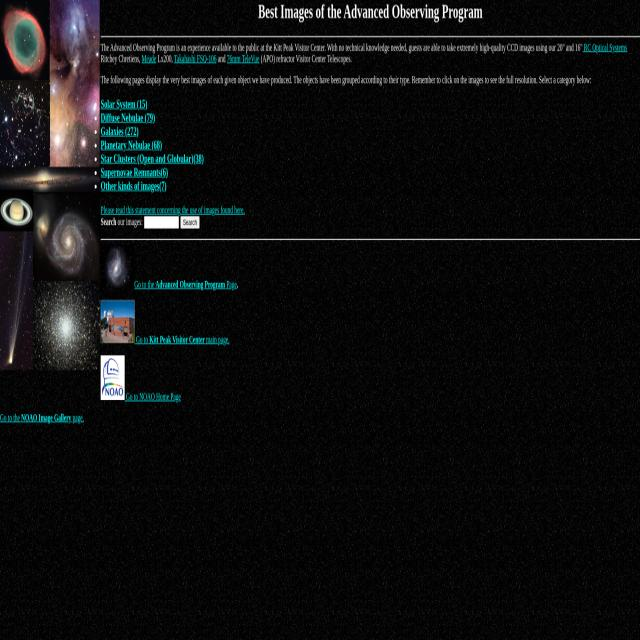button: (0, 0, 100, 370), (101, 300, 135, 343), (101, 245, 134, 288), (101, 355, 125, 400), (180, 216, 200, 229)
field: (144, 216, 179, 229)
